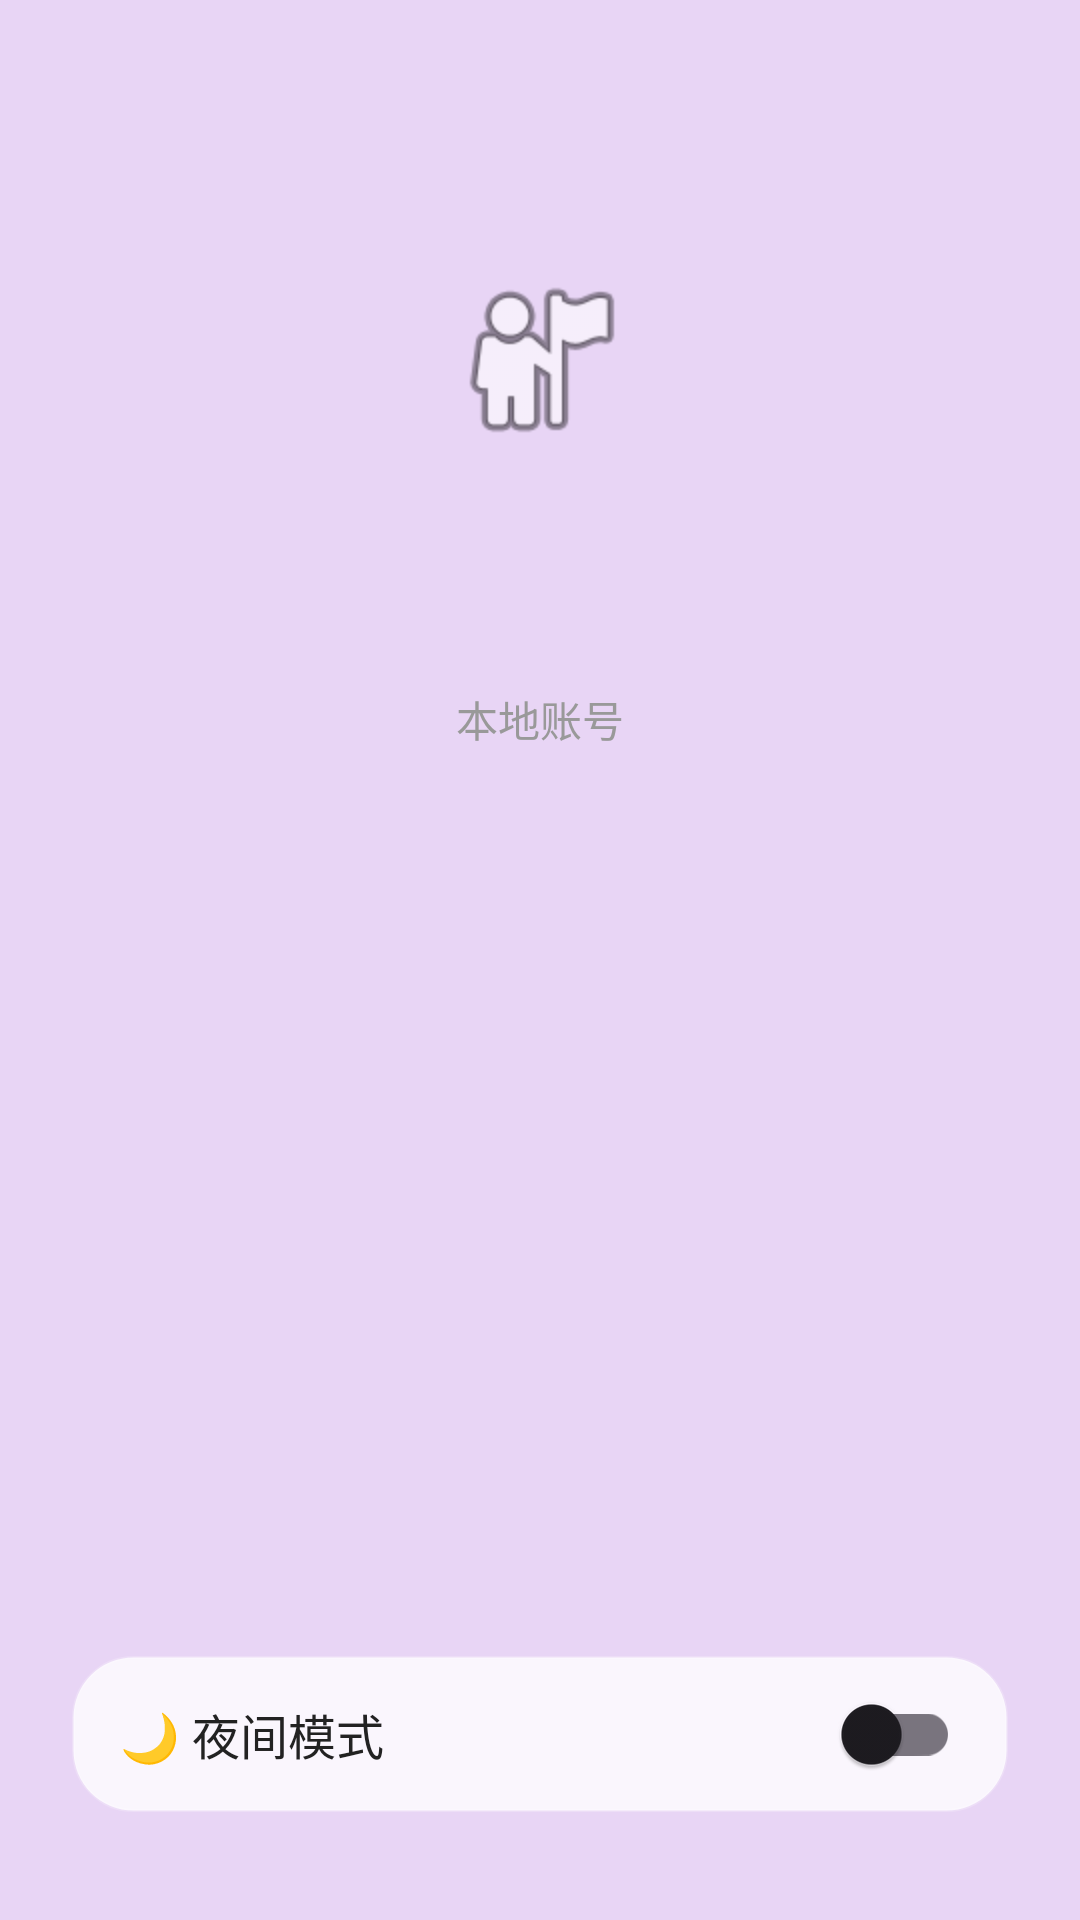

Icons on this 1080px×1920px Android screen, each with the point to tap as point (x, y):
myplaces: point (542, 360)
